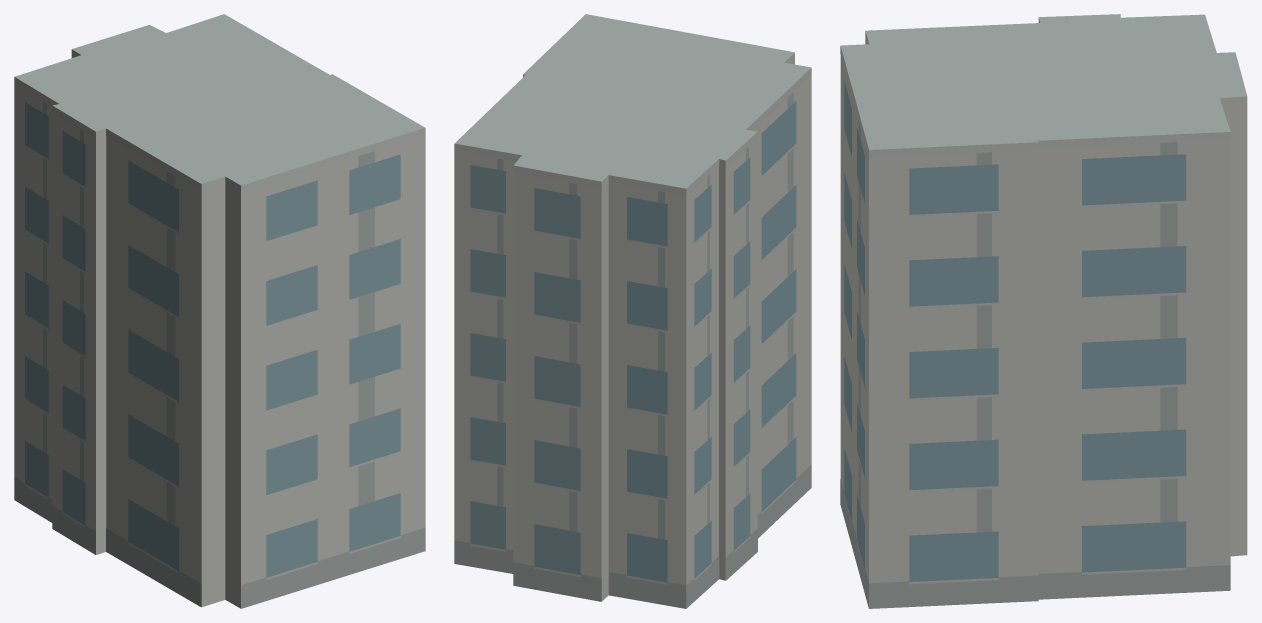
The model's file is survey-upis-32520122.glb.
The picture shows the model from 3 angles, left to right: view 1: azimuth 30°, elevation 25°; view 2: azimuth 150°, elevation 25°; view 3: azimuth 270°, elevation 25°; orthographic projection. The views are drawn at different scales.
Parts seen in each view (by area): view 1: survey-upis-32520122.tmp; view 2: survey-upis-32520122.tmp; view 3: survey-upis-32520122.tmp.
Part boxes in pixels (x1,y1,x2,y2): survey-upis-32520122.tmp: (14,14,425,608); survey-upis-32520122.tmp: (454,14,811,608); survey-upis-32520122.tmp: (840,14,1247,608).
Size of the model in its own units: 8.91 by 14 by 11.26.
